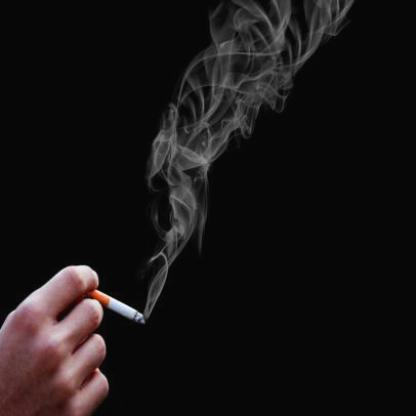cigarette: (90, 289, 147, 326)
smoke: (172, 1, 358, 113), (141, 117, 222, 318)
